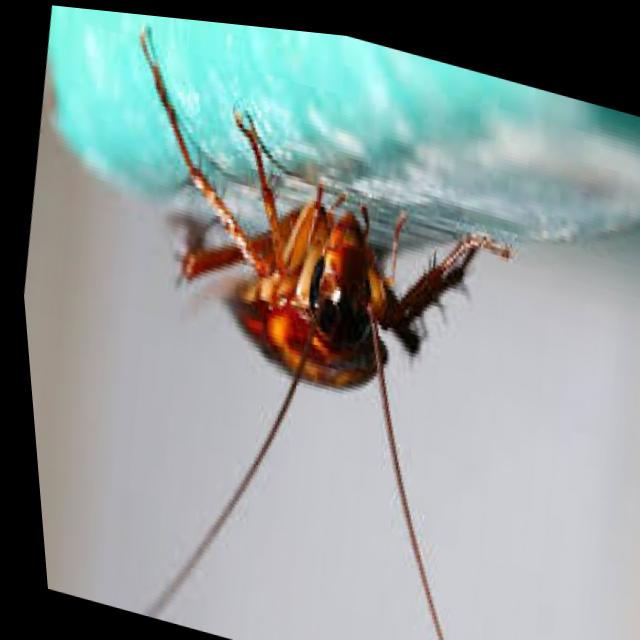Cockroach: (112, 82, 546, 507)
